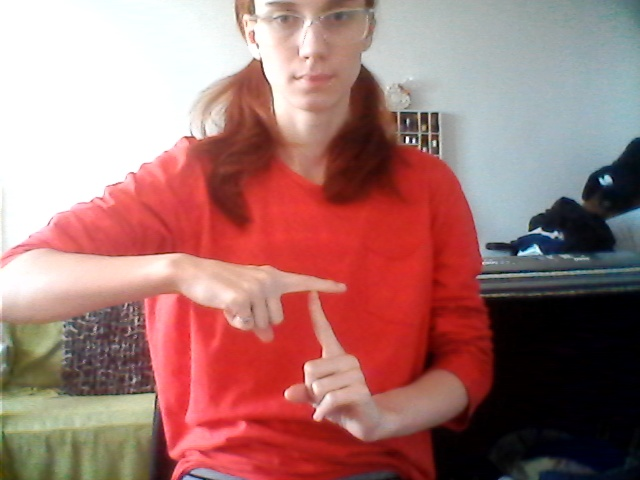t: (211, 250, 391, 452)
